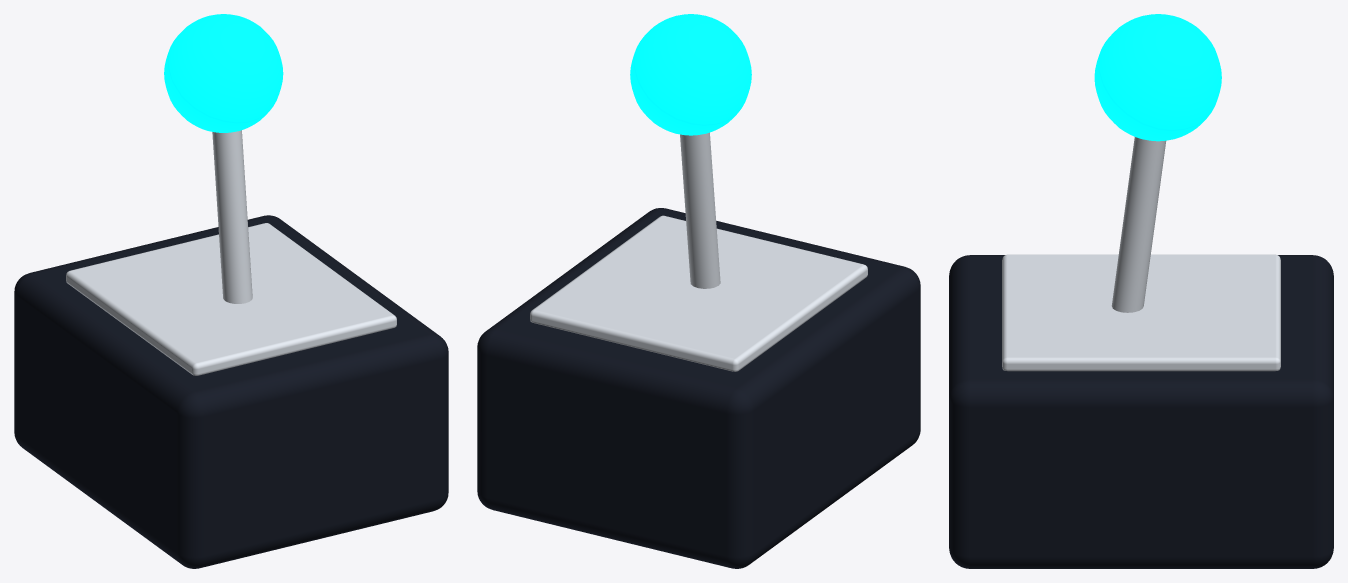
The model's file is atelier-gaming-shifter-cyber.glb.
3 renders of one model, left to right at view 1: azimuth 30°, elevation 25°; view 2: azimuth 150°, elevation 25°; view 3: azimuth 270°, elevation 25°, orthographic. The views are drawn at different scales.
Bounding box in the file's own units: 0.125 × 0.202 × 0.145.
